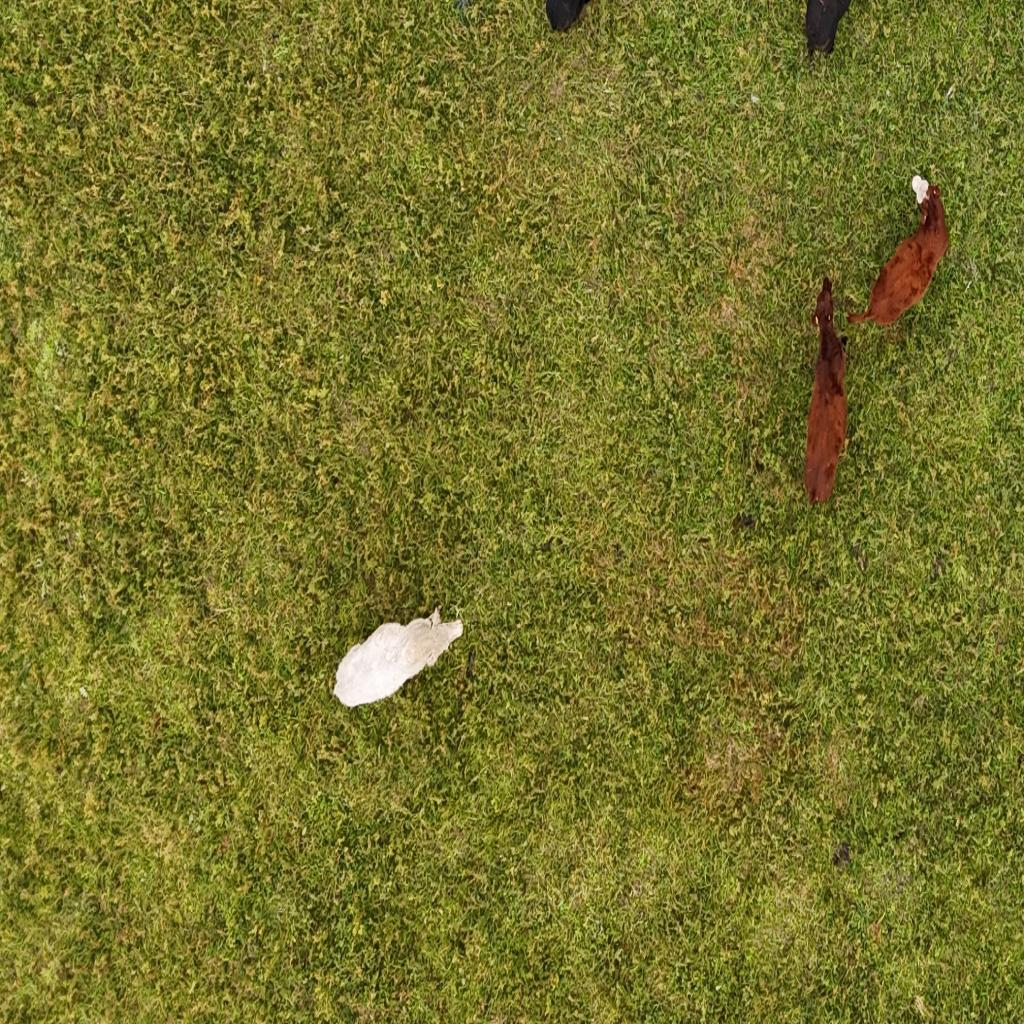cow: (839, 169, 952, 339), (331, 606, 468, 716), (801, 269, 853, 510)
